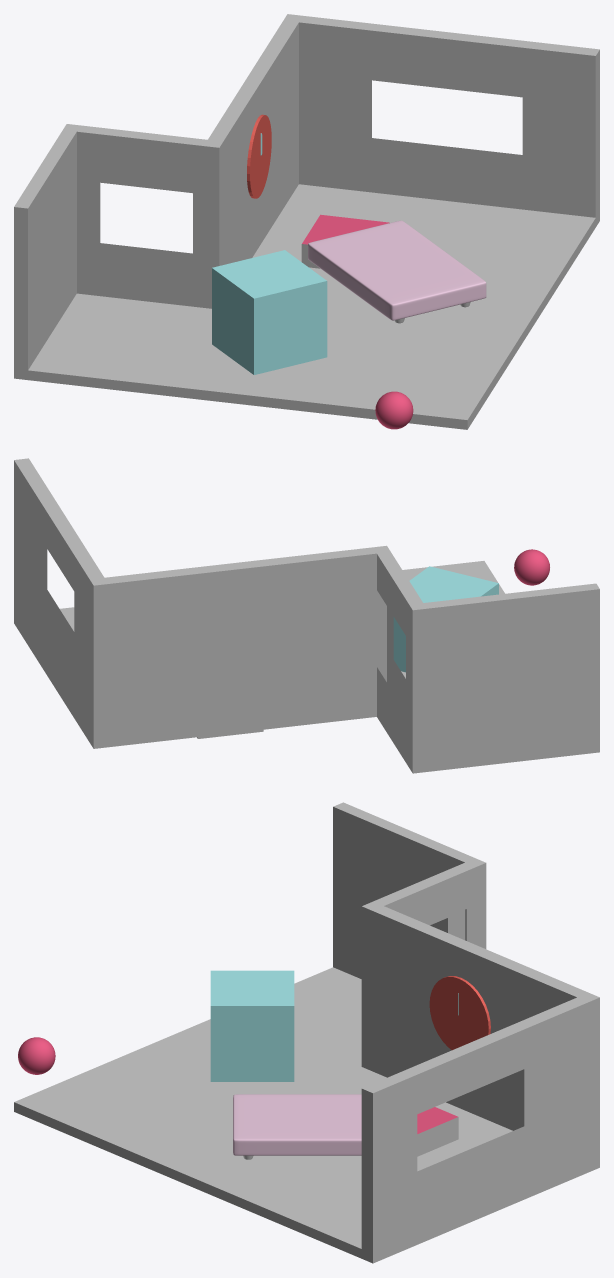
The model's file is simplebed.glb.
3 views of the same model, one above another, from view 1: azimuth 30°, elevation 25°; view 2: azimuth 150°, elevation 25°; view 3: azimuth 270°, elevation 25° (orthographic). The views are drawn at different scales.
Parts seen in each view (by area): view 1: Floor, Glass, Bed, Clock, Cube, Ball; view 2: Floor, Glass, Ball; view 3: Floor, Glass, Bed, Clock, Cube, Ball.
Part boxes in pixels (x1,y1,x2,y2): Floor: (14,14,599,429); Glass: (212,250,327,374); Bed: (308,220,486,320); Clock: (247,114,271,198); Cube: (301,214,389,268); Ball: (375,391,413,429); Floor: (14,458,599,773); Glass: (393,566,498,672); Ball: (514,549,549,585); Floor: (14,802,599,1263); Glass: (210,970,294,1081); Bed: (233,1094,361,1155); Clock: (429,976,490,1050); Cube: (417,1107,458,1156); Ball: (18,1037,55,1074).
Size of the model in its own units: 16.44 by 5.34 by 14.
